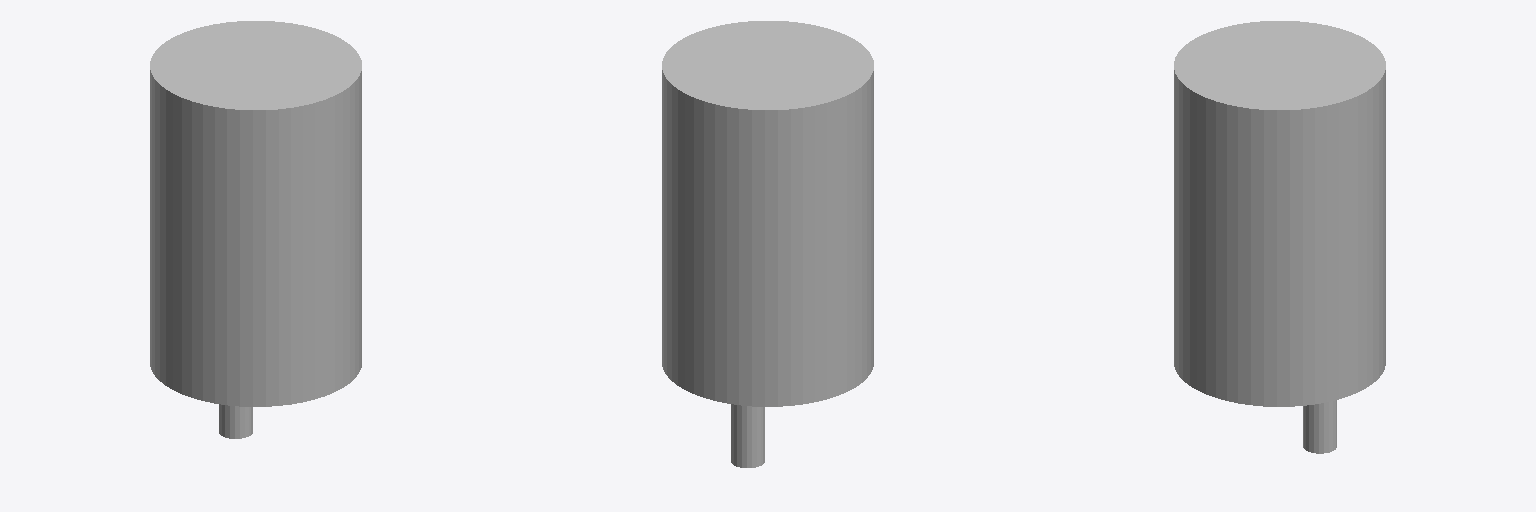
Rendered from br_motor_visual.obj.
3 renders of one model, left to right at view 1: azimuth 30°, elevation 25°; view 2: azimuth 150°, elevation 25°; view 3: azimuth 270°, elevation 25°, orthographic.
Visible parts, largest first — view 1: br_motor; view 2: br_motor; view 3: br_motor.
Part boxes in pixels (left/top/right/bottom): br_motor: left=150, top=21, right=361, bottom=438; br_motor: left=662, top=21, right=873, bottom=467; br_motor: left=1174, top=21, right=1385, bottom=453.
Bounding box in the file's own units: 3.7 × 7.32 × 3.7.